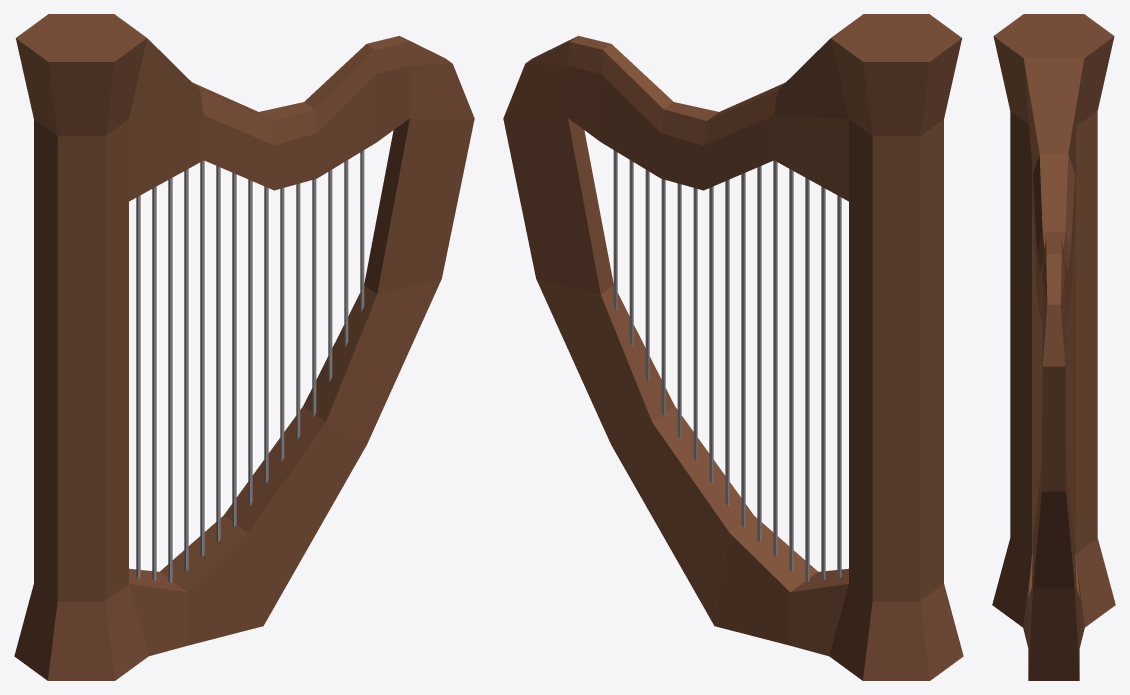
File: harp.fbx
The picture shows the model from 3 angles, left to right: view 1: azimuth 30°, elevation 25°; view 2: azimuth 150°, elevation 25°; view 3: azimuth 270°, elevation 25°; orthographic projection. The views are drawn at different scales.
Visible parts, largest first — view 1: harp, strings.001; view 2: harp, strings.001; view 3: harp.
Part boxes in pixels (box(x1,y1,x2,y2)): harp: box(14, 14, 474, 680); strings.001: box(136, 150, 364, 582); harp: box(503, 14, 963, 680); strings.001: box(613, 150, 841, 582); harp: box(992, 14, 1115, 680).
Bounding box in the file's own units: 27.12 × 36.72 × 7.22.
